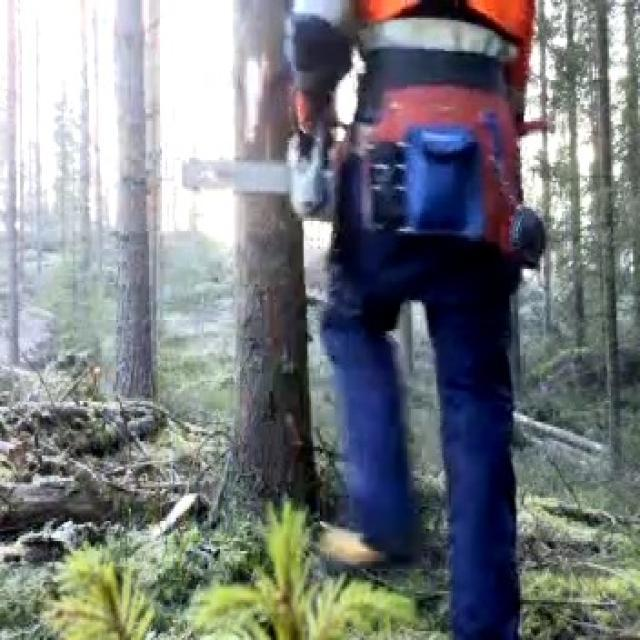Chainsaw: (162, 110, 356, 233)
